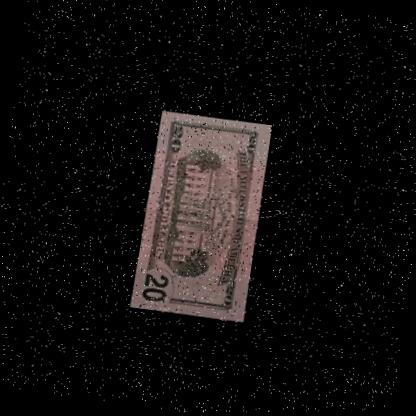twenty-back: (128, 108, 276, 325)
